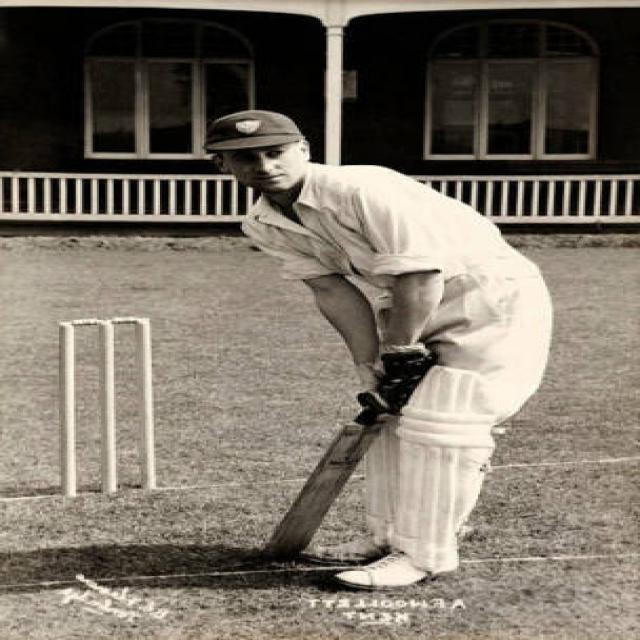stump: (54, 316, 156, 495)
